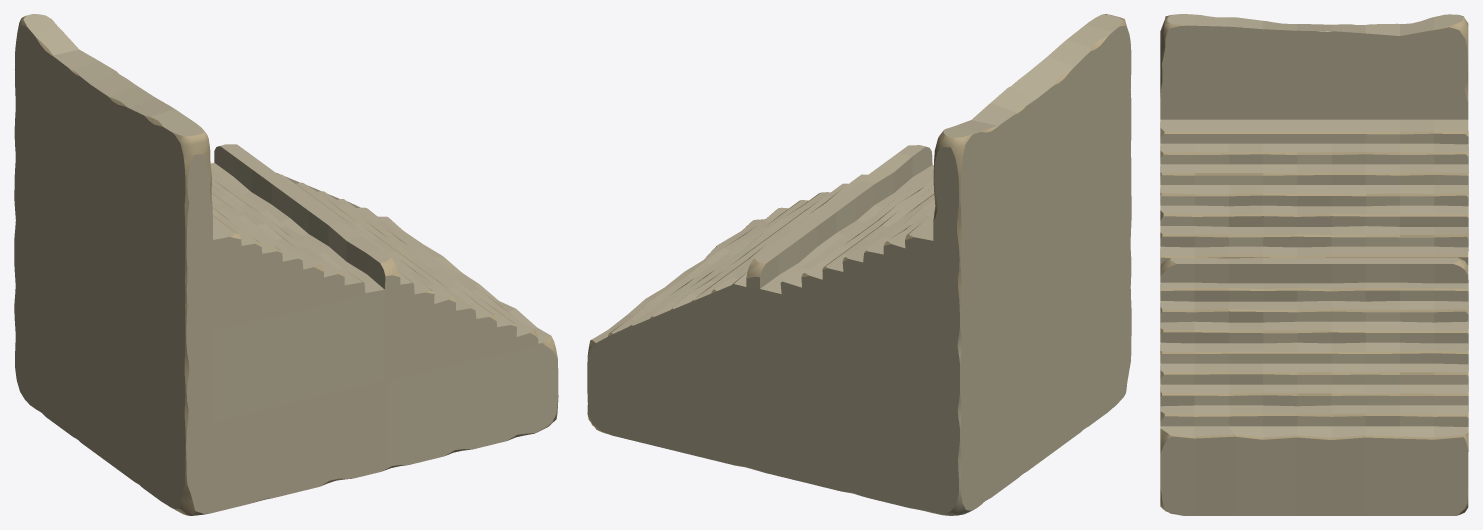
File: HypodromeSittingPlace.fbx
3 views of the same model, side by side, from view 1: azimuth 30°, elevation 25°; view 2: azimuth 150°, elevation 25°; view 3: azimuth 270°, elevation 25° (orthographic). The views are drawn at different scales.
Visible parts, largest first — view 1: Cube.028_dmg.002; view 2: Cube.028_dmg.002; view 3: Cube.028_dmg.002.
Part boxes in pixels (<box>): Cube.028_dmg.002: <box>14,14,558,515</box>; Cube.028_dmg.002: <box>587,14,1131,515</box>; Cube.028_dmg.002: <box>1160,14,1468,515</box>.
Bounding box in the file's own units: 2403 × 2921 × 3017.
